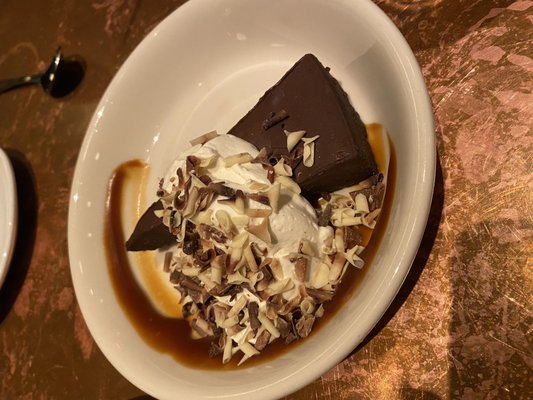salad: (1, 47, 86, 99)
sushi: (46, 1, 438, 399)
